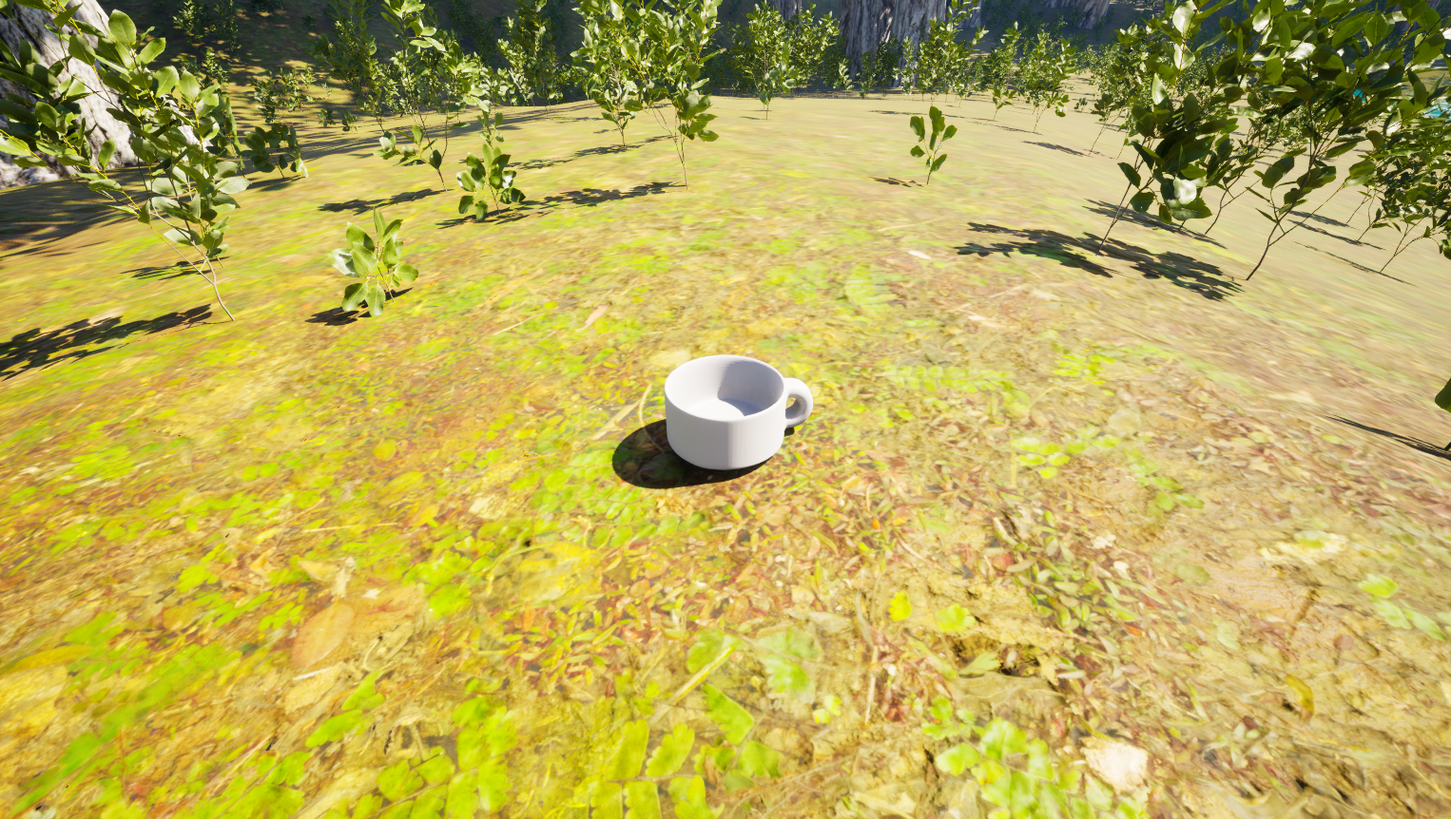Teacup: (641, 346, 820, 490)
